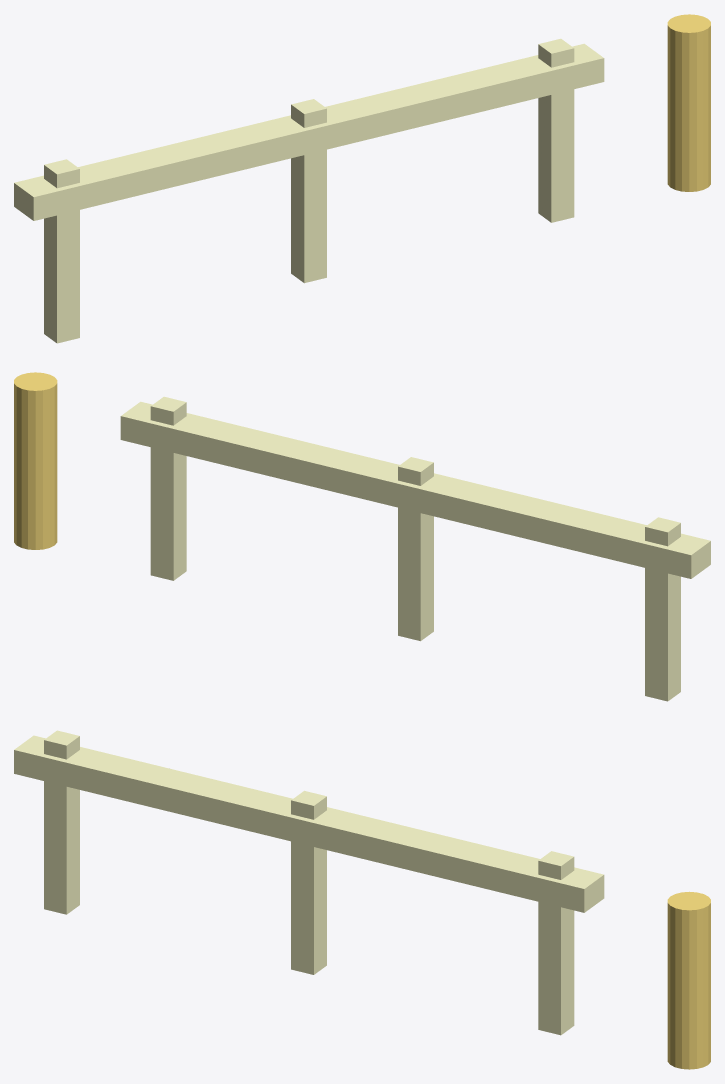
The model's file is furniture_guardrail_bollard_set.glb.
3 views of the same model, one above another, from view 1: azimuth 30°, elevation 25°; view 2: azimuth 150°, elevation 25°; view 3: azimuth 330°, elevation 25° (orthographic).
Parts seen in each view (by area): view 1: rail, bollard, post_26, post_0, post_13; view 2: rail, bollard, post_26, post_0, post_13; view 3: rail, bollard, post_26, post_13, post_0.
Part boxes in pixels (x1,y1,x2,y2): rail: (14,43,604,220); bollard: (667,14,710,191); post_26: (538,38,574,222); post_0: (44,159,79,343); post_13: (291,99,326,283); rail: (120,401,710,578); bollard: (14,372,57,549); post_26: (150,396,186,580); post_0: (645,517,680,701); post_13: (398,457,433,641); rail: (14,735,604,912); bollard: (667,891,710,1069); post_26: (538,851,574,1035); post_13: (291,790,326,974); post_0: (44,730,79,914).
Size of the model in its own units: 3.6 by 0.85 by 0.197.
